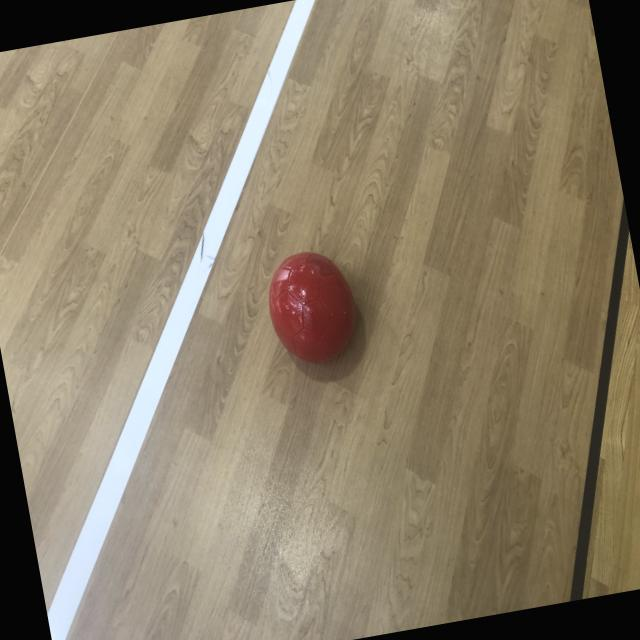red_ball: (260, 246, 365, 370)
